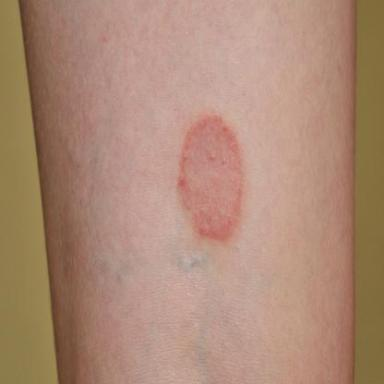Tinea-Corporis: (178, 114, 241, 243)
